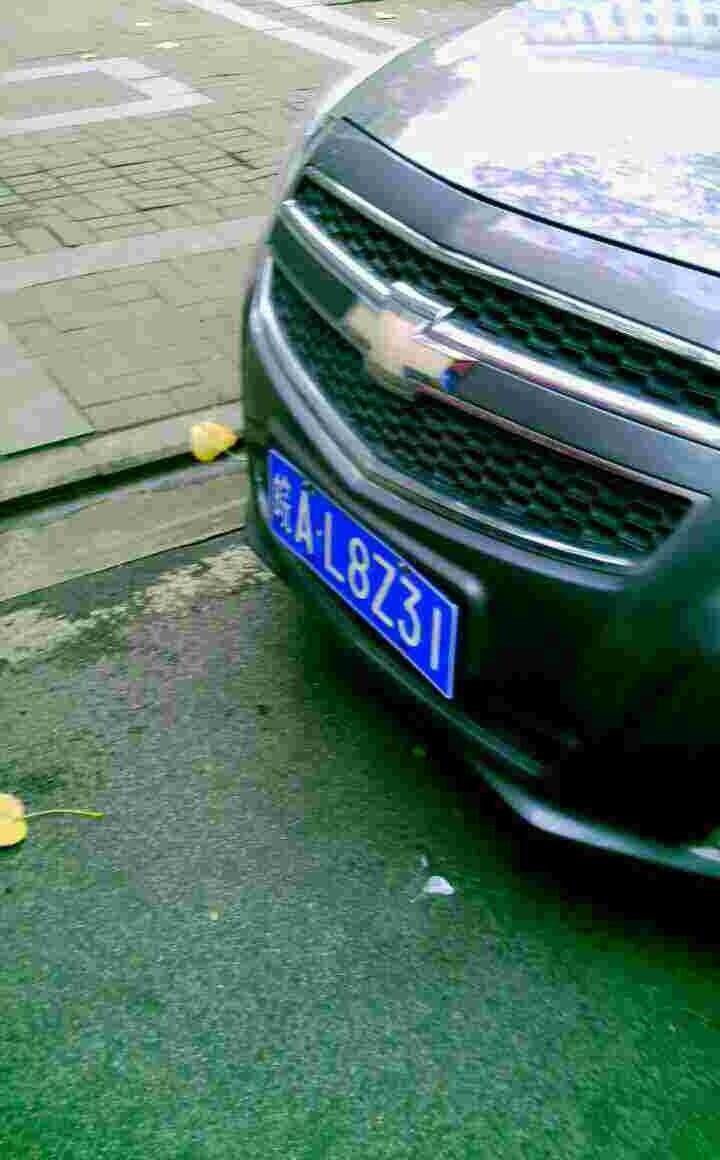car: (261, 454, 453, 691)
